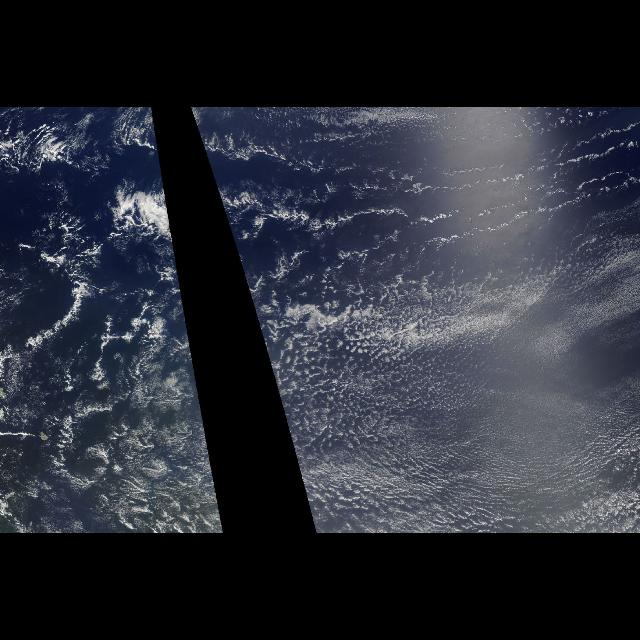Gravel: (336, 239, 636, 365)
Sugar: (334, 376, 640, 532)
